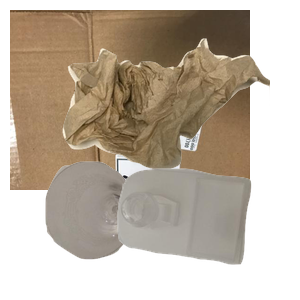cardboard: (10, 10, 250, 190)
glass: (43, 159, 187, 300)
plastic: (115, 166, 300, 300)
trash: (60, 36, 300, 198)
